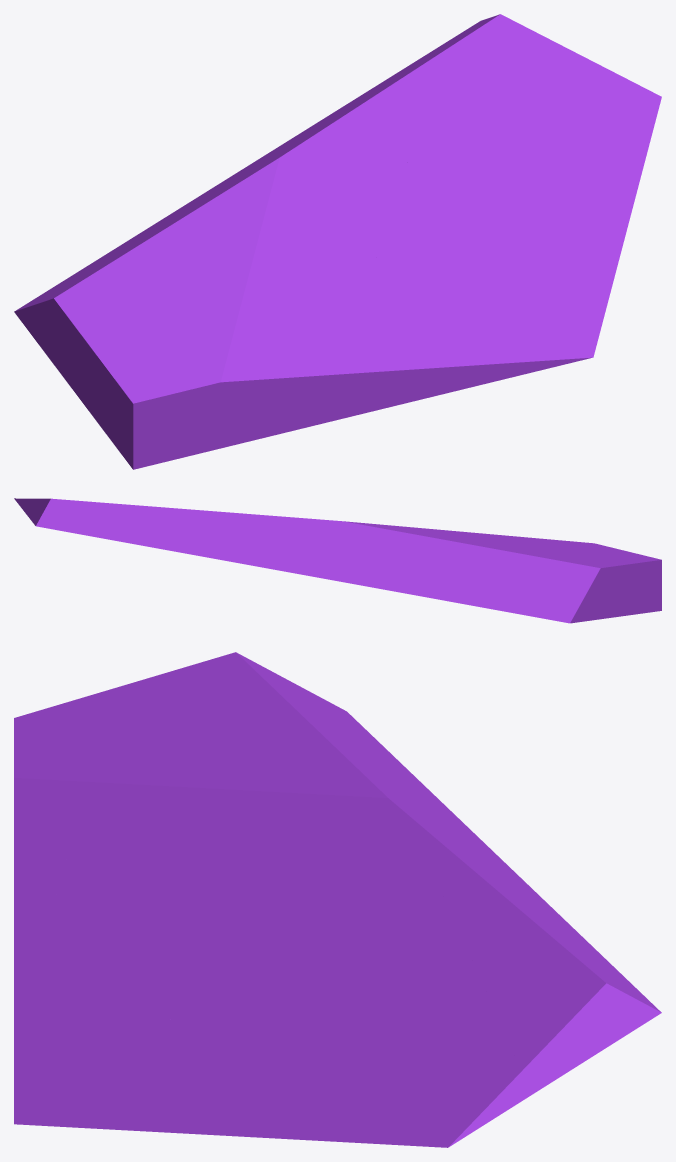
File: Window_151_1_chunks.fbx
3 renders of one model, top to bottom at view 1: azimuth 30°, elevation 25°; view 2: azimuth 150°, elevation 25°; view 3: azimuth 270°, elevation 25°, orthographic. The views are drawn at different scales.
Visible parts, largest first — view 1: Window_151_1_0, Window_151_1_10, Window_151_1_8, Window_151_1_7, Window_151_1_13, Window_151_1_15, Window_151_1_2, Window_151_1_11, Window_151_1_5, Window_151_1_1, Window_151_1_14, Window_151_1_3; view 2: Window_151_1_0, Window_151_1_1, Window_151_1_3, Window_151_1_2; view 3: Window_151_1_10, Window_151_1_0, Window_151_1_8, Window_151_1_7, Window_151_1_2, Window_151_1_11, Window_151_1_15, Window_151_1_5, Window_151_1_1, Window_151_1_13, Window_151_1_14, Window_151_1_3.
Boxes of the visible parts, bbox=[...] form: Window_151_1_0: bbox=[14, 167, 313, 469]; Window_151_1_10: bbox=[398, 58, 661, 282]; Window_151_1_8: bbox=[288, 170, 612, 285]; Window_151_1_7: bbox=[350, 254, 612, 369]; Window_151_1_13: bbox=[191, 343, 384, 455]; Window_151_1_15: bbox=[356, 305, 544, 407]; Window_151_1_2: bbox=[420, 14, 586, 107]; Window_151_1_11: bbox=[264, 115, 408, 206]; Window_151_1_5: bbox=[256, 250, 367, 360]; Window_151_1_1: bbox=[253, 54, 438, 162]; Window_151_1_14: bbox=[290, 301, 376, 348]; Window_151_1_3: bbox=[178, 128, 347, 209]; Window_151_1_0: bbox=[360, 523, 661, 623]; Window_151_1_1: bbox=[97, 505, 298, 573]; Window_151_1_3: bbox=[282, 516, 383, 589]; Window_151_1_2: bbox=[19, 498, 131, 537]; Window_151_1_10: bbox=[139, 902, 521, 1147]; Window_151_1_0: bbox=[14, 652, 456, 844]; Window_151_1_8: bbox=[134, 813, 351, 1130]; Window_151_1_7: bbox=[14, 879, 215, 1130]; Window_151_1_2: bbox=[457, 920, 661, 1117]; Window_151_1_11: bbox=[304, 788, 446, 921]; Window_151_1_15: bbox=[14, 900, 127, 1069]; Window_151_1_5: bbox=[46, 808, 227, 903]; Window_151_1_1: bbox=[427, 836, 624, 977]; Window_151_1_13: bbox=[14, 801, 72, 924]; Window_151_1_14: bbox=[55, 837, 133, 912]; Window_151_1_3: bbox=[379, 788, 506, 864].
Bounding box in the file's own units: 1085 × 241 × 637.
